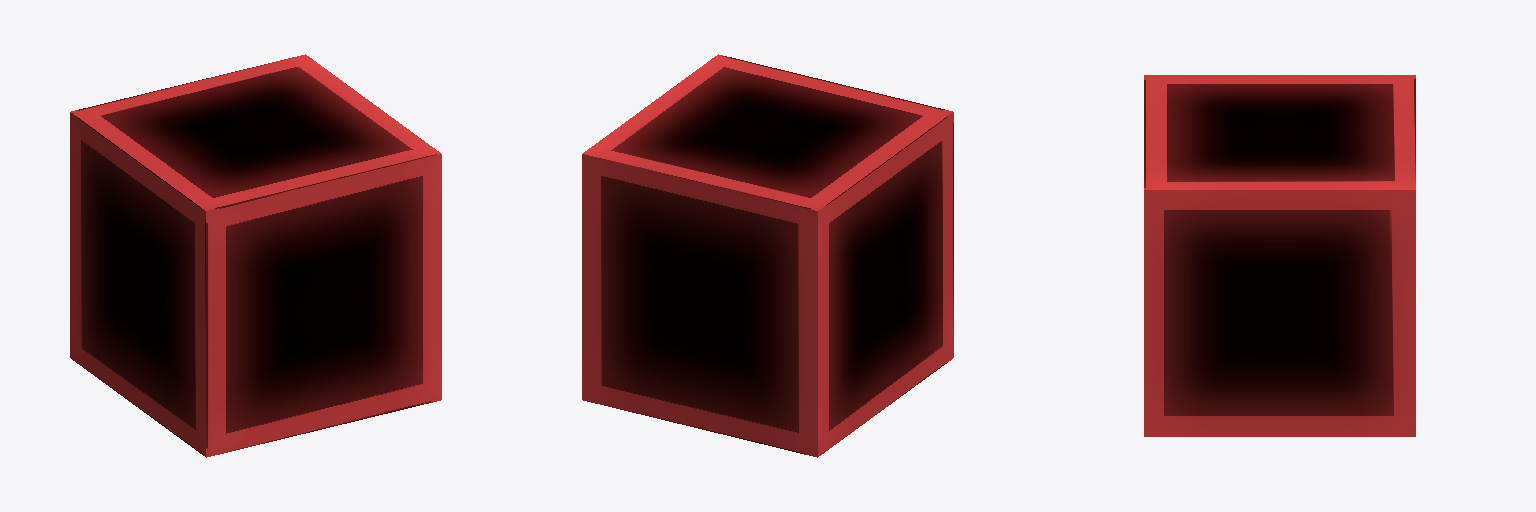
3 views of the same model, side by side, from view 1: azimuth 30°, elevation 25°; view 2: azimuth 150°, elevation 25°; view 3: azimuth 270°, elevation 25° (orthographic).
Visible parts, largest first — view 1: boss; view 2: boss; view 3: boss.
Part boxes in pixels (left/top/right/bottom): boss: left=70, top=54, right=441, bottom=457; boss: left=582, top=54, right=953, bottom=457; boss: left=1144, top=75, right=1415, bottom=436.
Bounding box in the file's own units: 2 × 2 × 2.
1 materials, 1 textured.